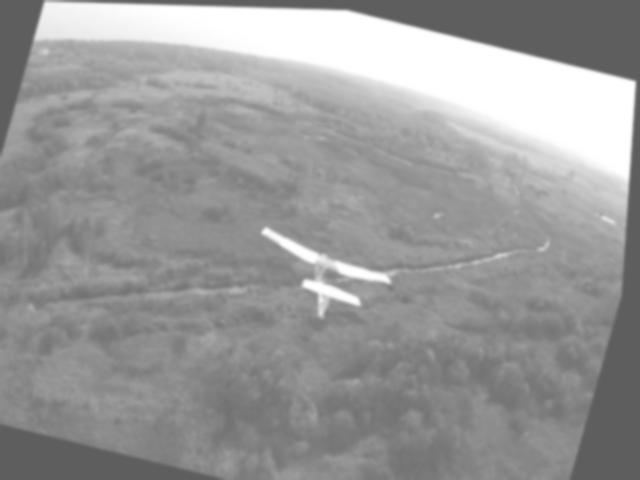hedef: (243, 223, 402, 326)
